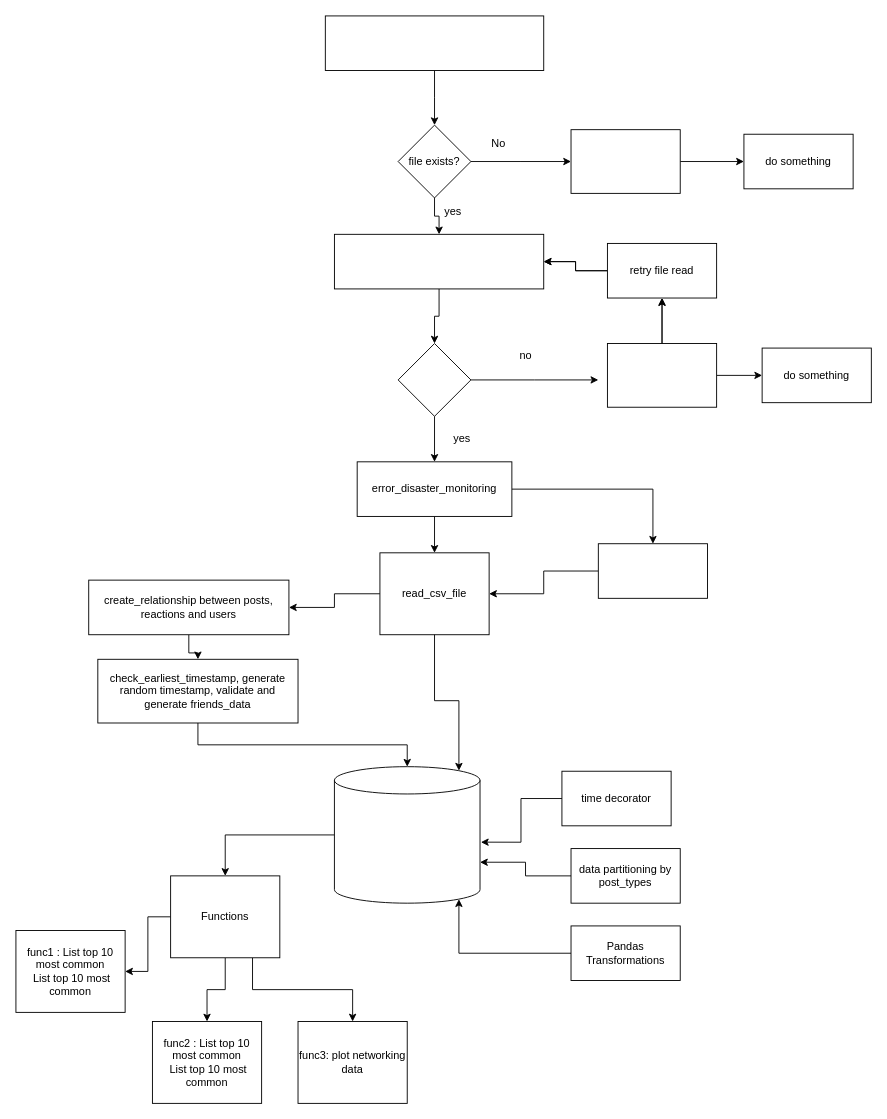
Some shapes in this 887 by 1119 pixel diagram are drawn without their labels. Each missing label, with the centre of its shape:
"access data source folder" goes at point (434, 43).
"is data readable?" goes at point (434, 379).
"log index where disaster happened" goes at point (652, 570).
"Main pipeline, effectively store data into flat files (“.csv” files)," goes at point (407, 834).
"raise error" goes at point (625, 161).
"raise error file not exists" goes at point (662, 375).
"read_data" goes at point (439, 261).
